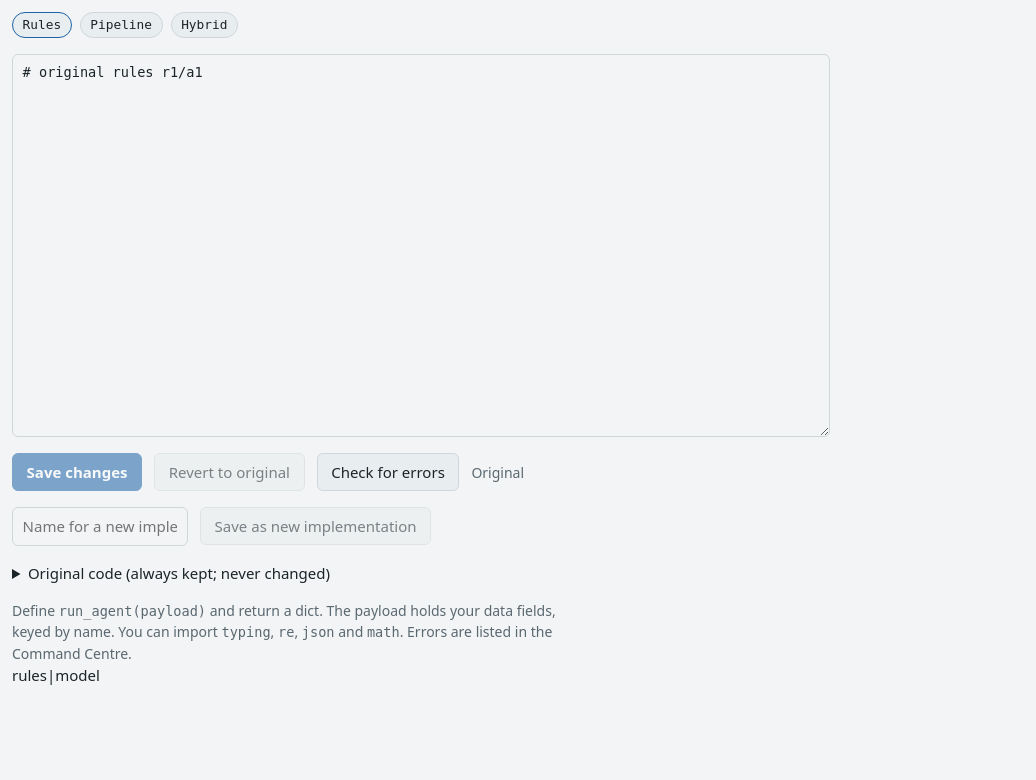
Test: CodePanel Check for errors › success shows a notice and sends the editor's text
Replace the text in the text box named "Python Source" with "fine = 1" at (421,246), box [12,54,830,437]
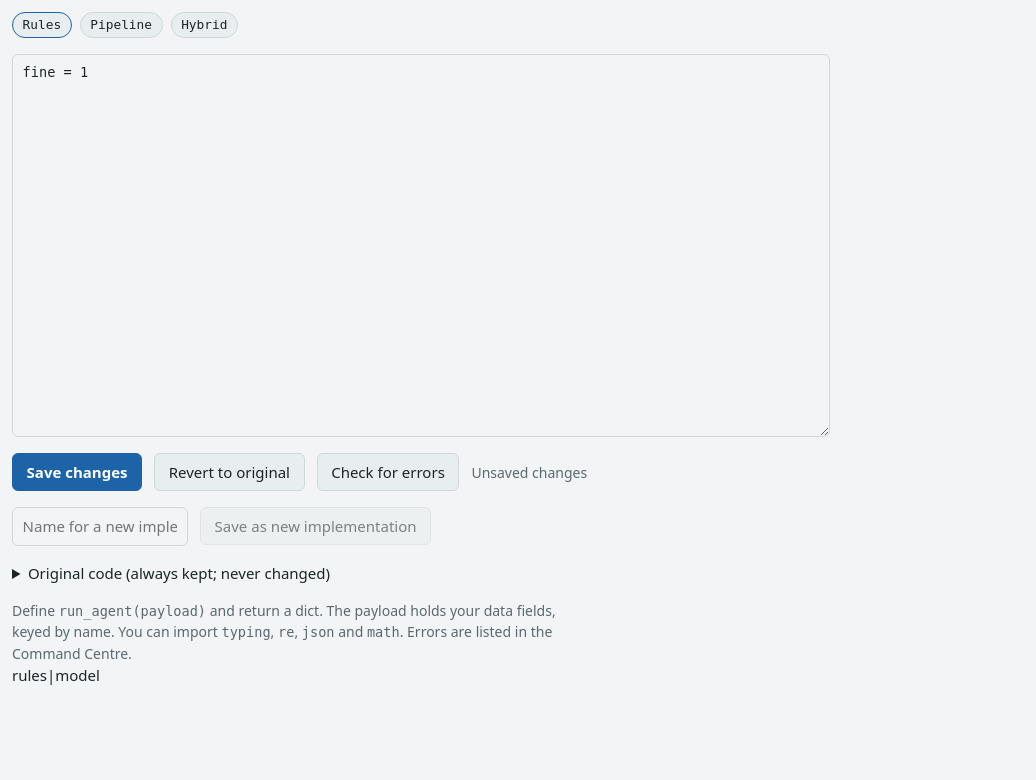
Click the button "Check for errors" at (388,472), box [317,453,459,491]
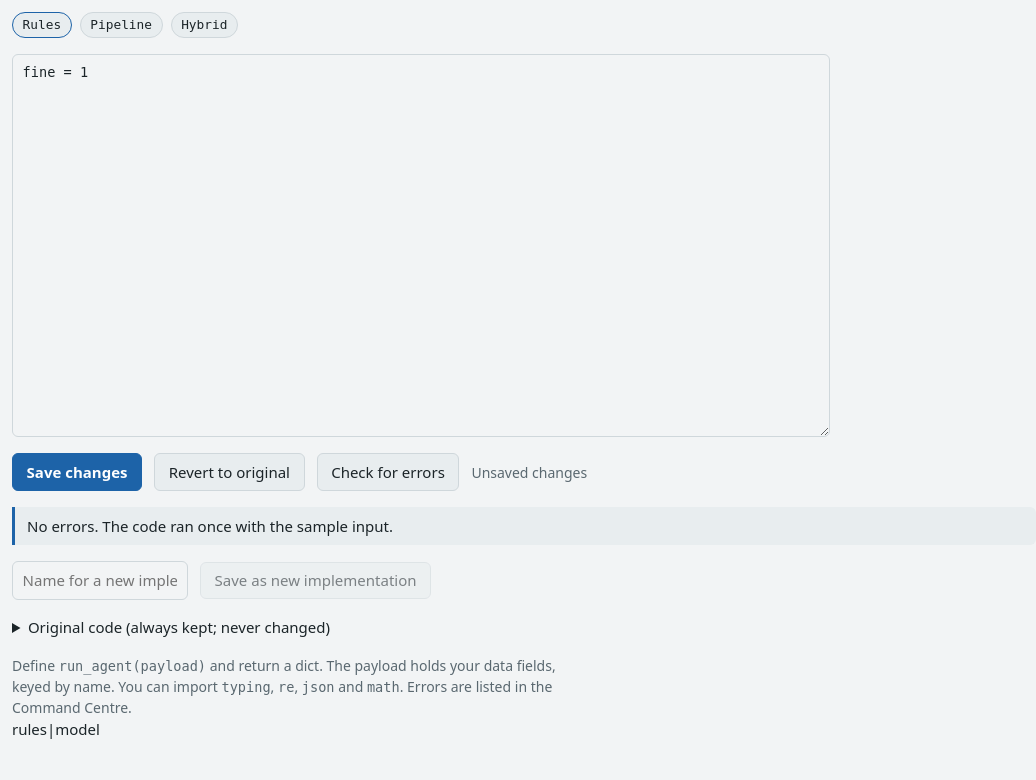
Now the text "No errors. The code ran once with the sample input." is shown, box [12,507,1035,545]
